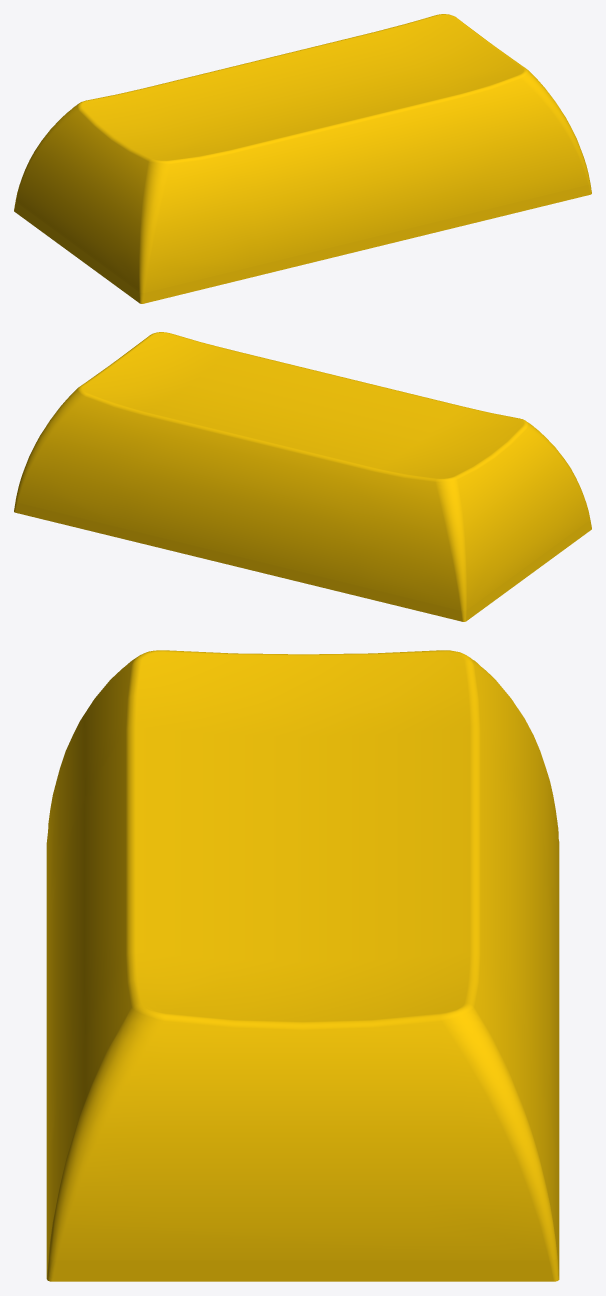
3 views of the same model, one above another, from view 1: azimuth 30°, elevation 25°; view 2: azimuth 150°, elevation 25°; view 3: azimuth 270°, elevation 25° (orthographic). The views are drawn at different scales.
Visible parts, largest first — view 1: Body56; view 2: Body56; view 3: Body56.
Boxes of the visible parts, x1,y1,x2,y2 form: Body56: [14, 14, 591, 303]; Body56: [14, 332, 591, 621]; Body56: [46, 650, 559, 1281].
Bounding box in the file's own units: 37.31 × 9.06 × 18.32.
